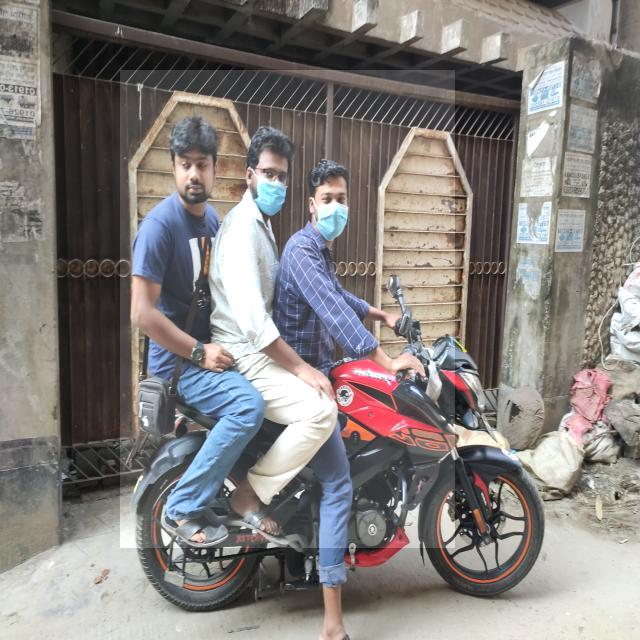Overloading: (120, 70, 455, 548)
